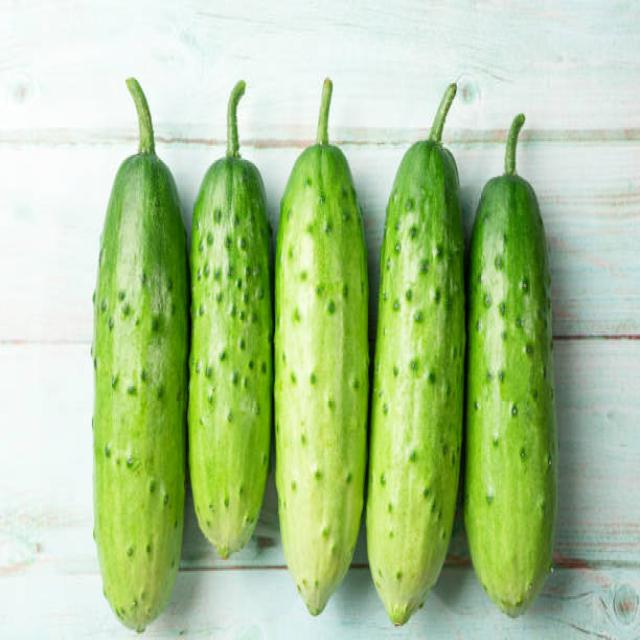cucumber: (361, 136, 465, 631), (271, 140, 369, 614), (92, 154, 188, 633), (463, 171, 559, 612), (186, 154, 270, 554)
